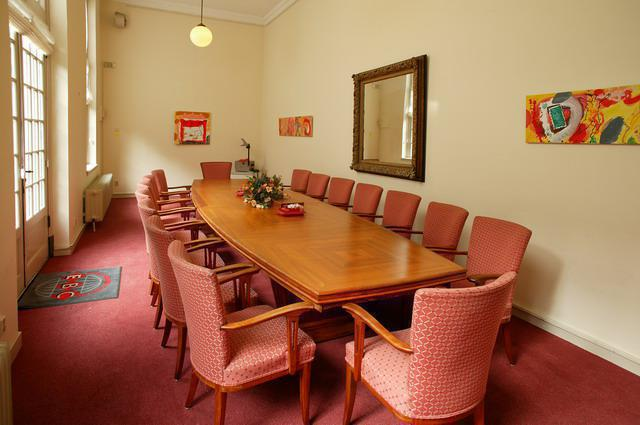Otro Obstaculo: (81, 174, 113, 220)
Puerta: (6, 17, 51, 280)
